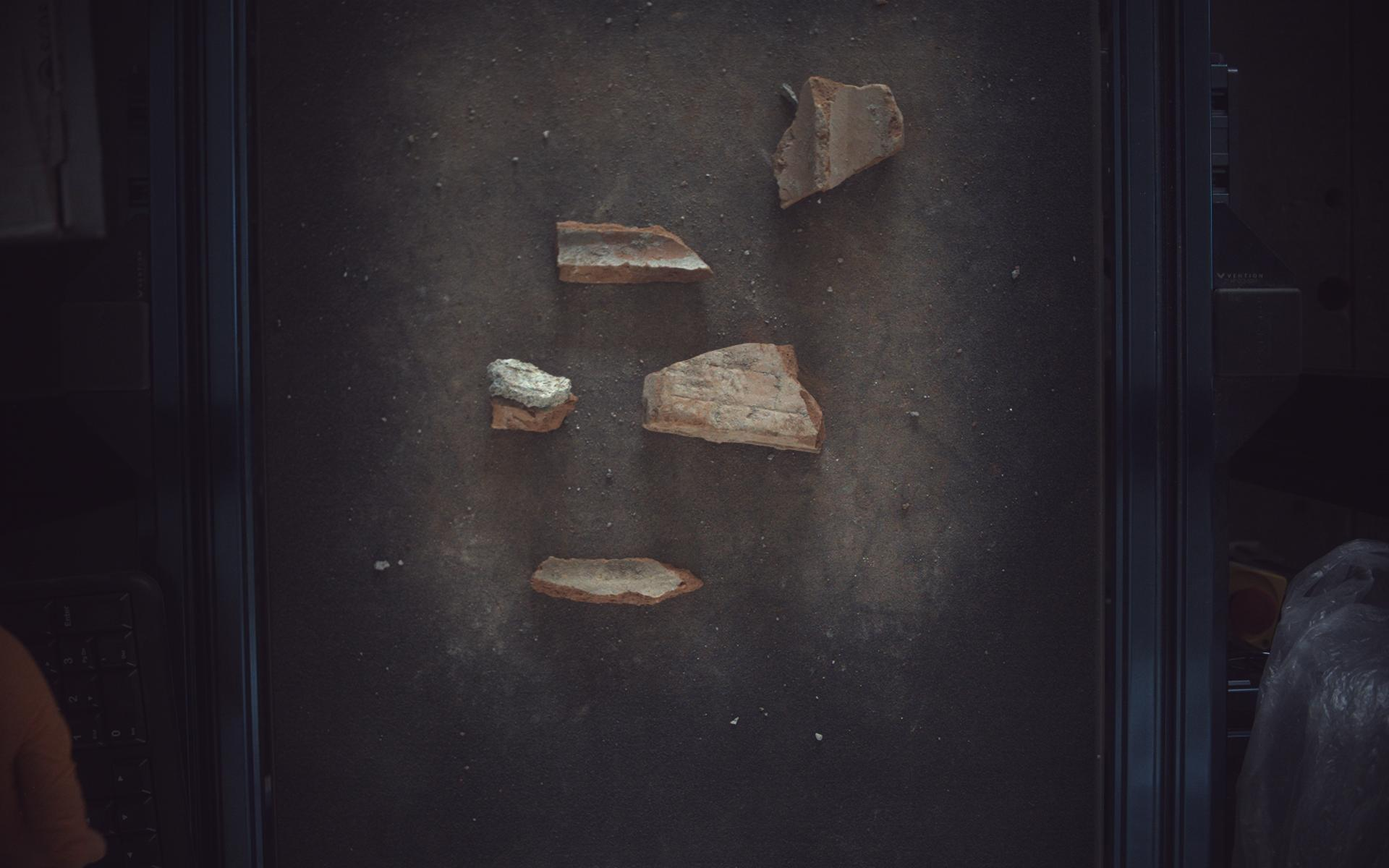brick: (644, 344, 826, 454), (775, 75, 906, 208), (557, 221, 715, 284), (531, 557, 705, 606), (487, 358, 578, 433)
